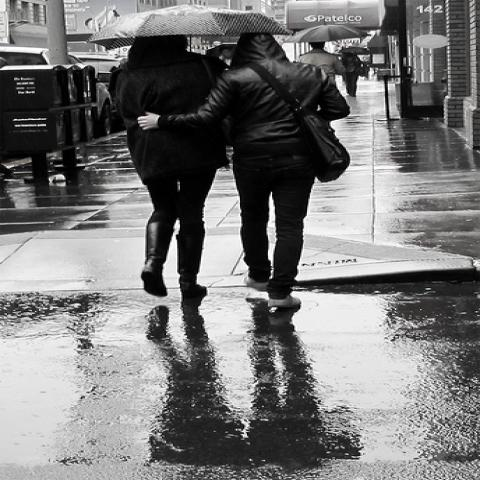car: (1, 44, 110, 136), (69, 50, 129, 88)
